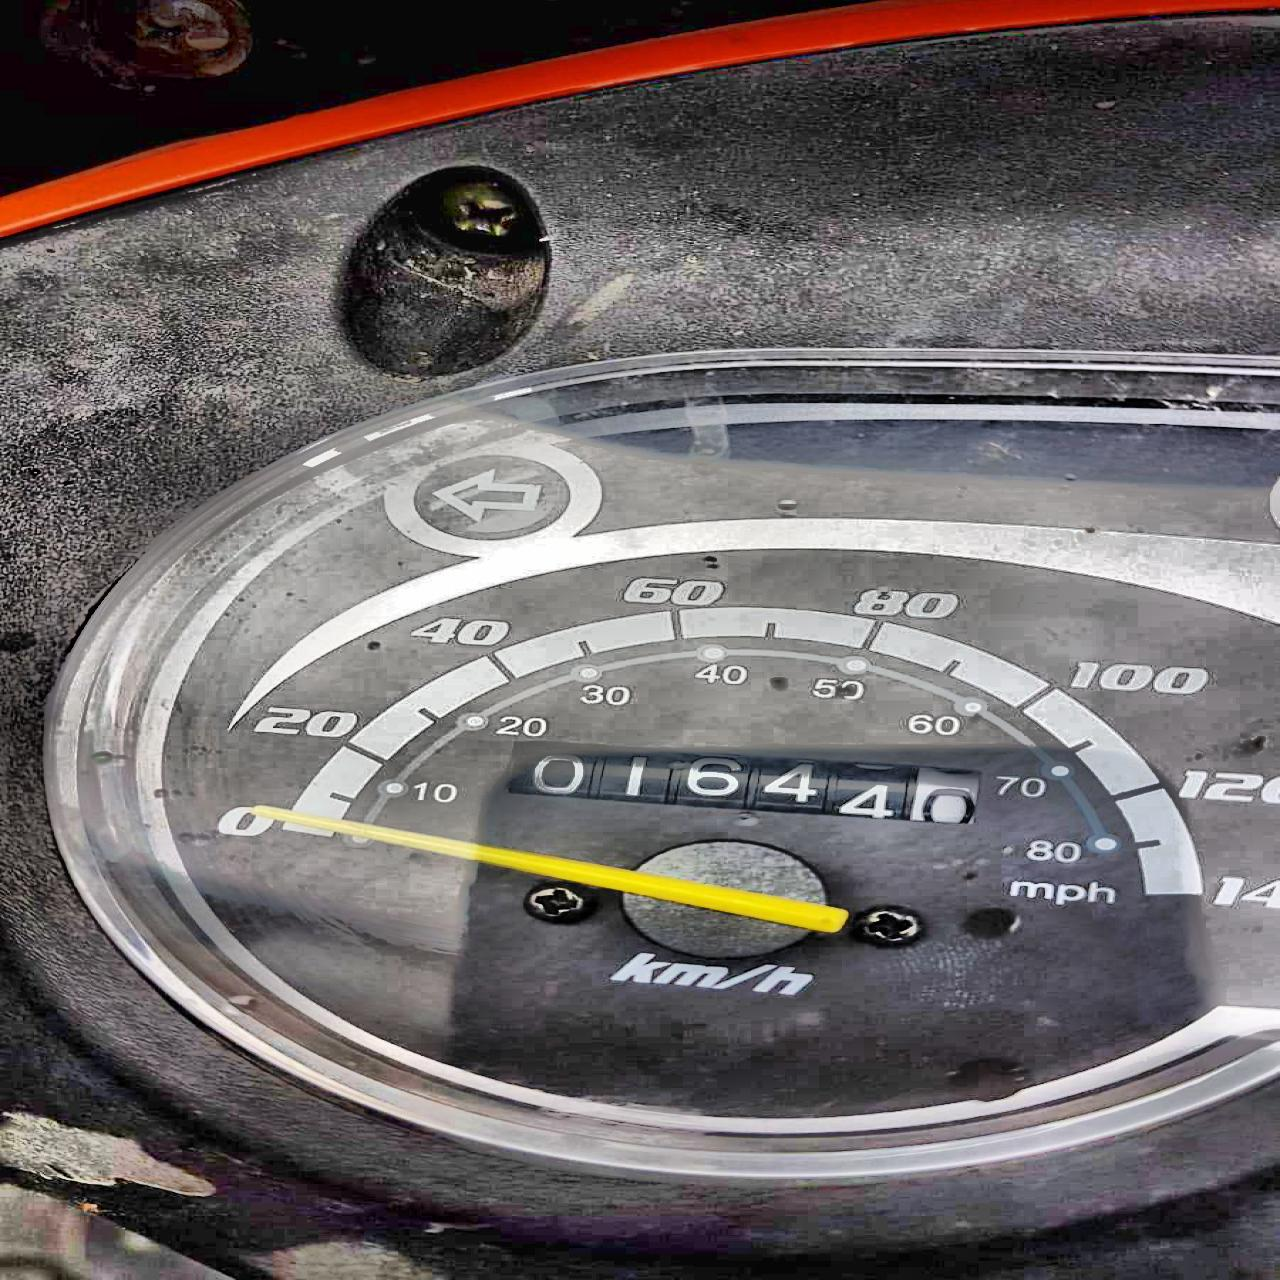0: (525, 751, 586, 798), (918, 781, 980, 825)
1: (617, 750, 651, 799)
4: (835, 779, 900, 823), (760, 761, 819, 805)
6: (682, 754, 745, 799)
odometer: (493, 734, 986, 829)
